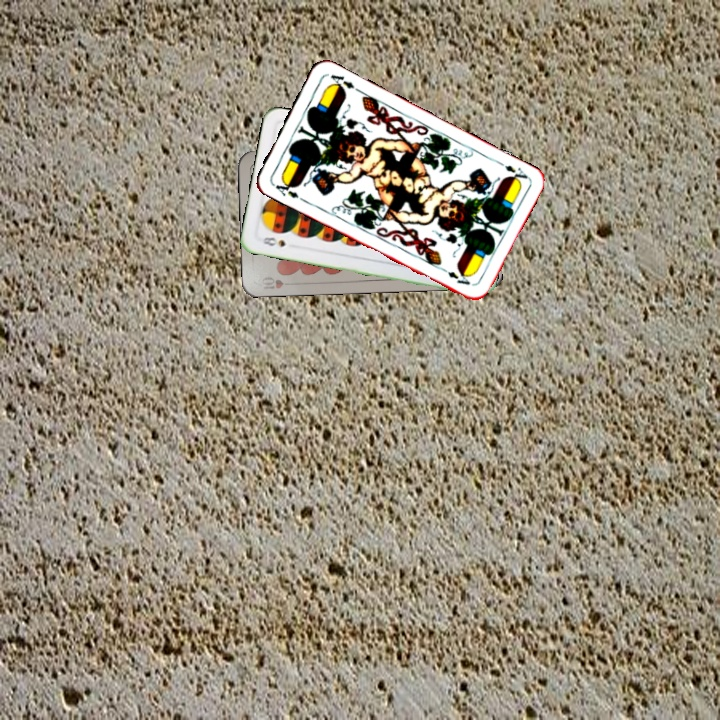EA: (493, 157, 531, 185), (269, 175, 302, 201)
H10: (258, 272, 297, 292)
S8: (259, 233, 288, 250)
